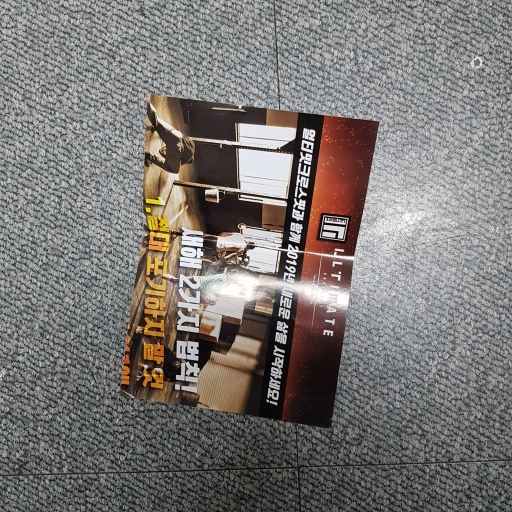Paper_2: (109, 83, 368, 448)
